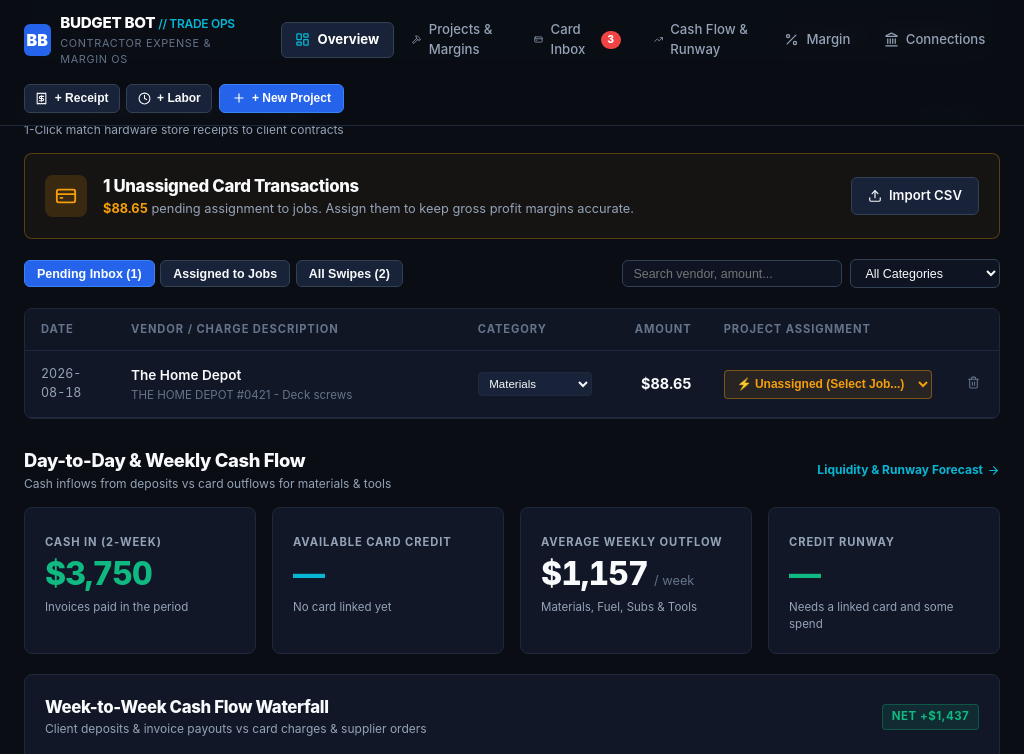
DashboardView › surfaces what an action refused
(page scrolled)
What coordinates should you click on to do the following:
click the button named "delete expense"
I would click on:
 (973, 384)
Its box is [964, 373, 983, 395].
(page scrolled)
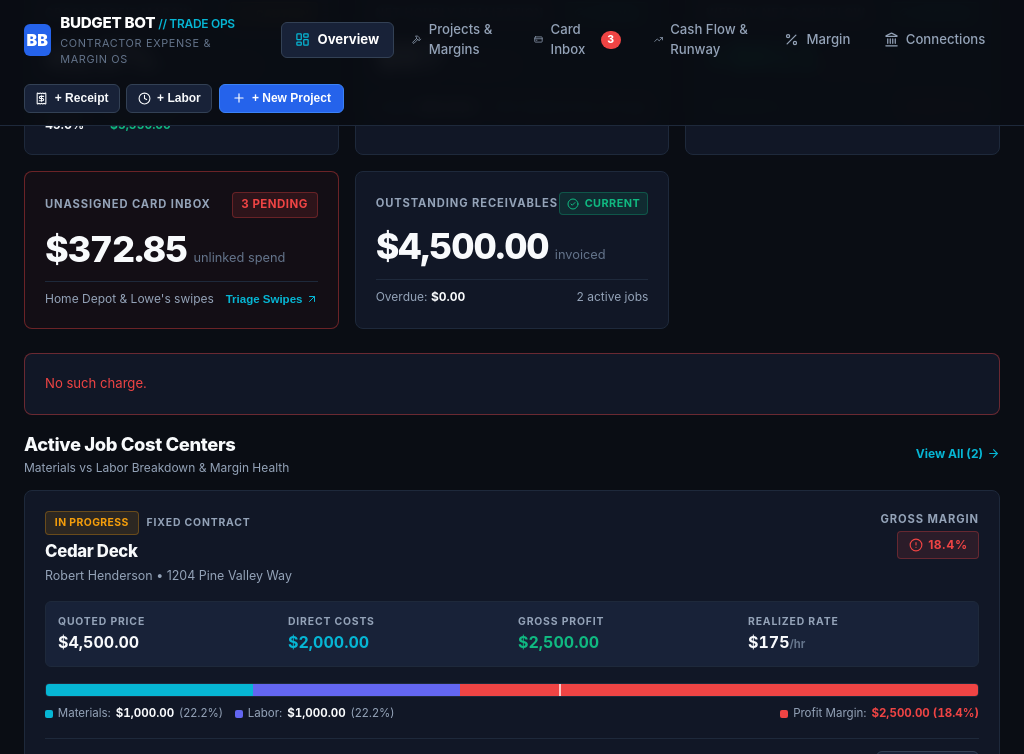
Expected: the message reads "No such charge.", [45, 375, 147, 391]
